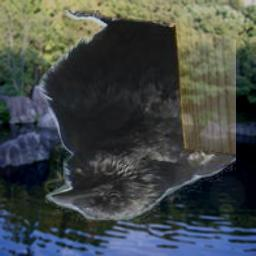Crow: (35, 10, 236, 222)
